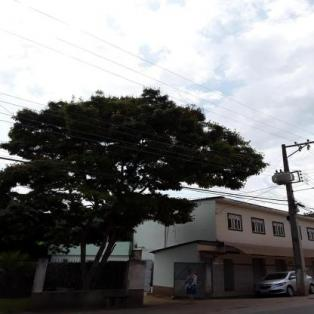Poste: (280, 143, 310, 294)
